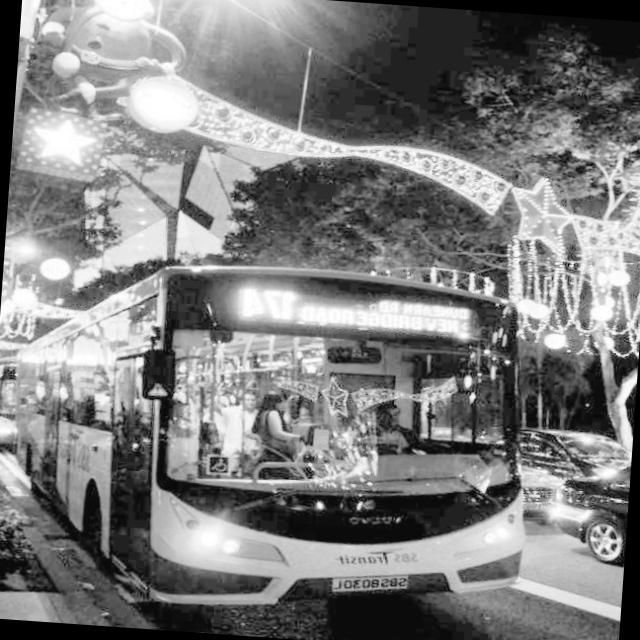Bus: (0, 210, 541, 640)
